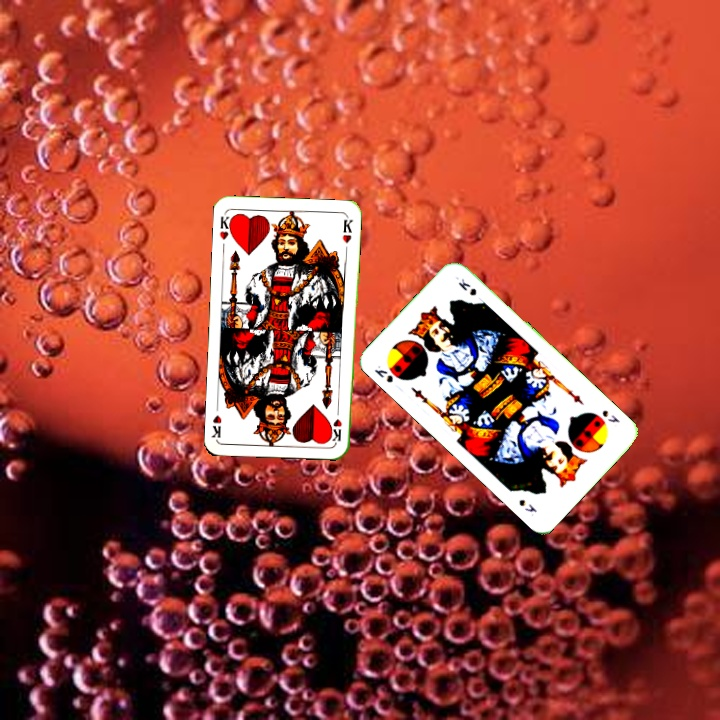HK: (328, 403, 345, 444), (215, 210, 236, 242)
SK: (370, 361, 396, 385), (598, 406, 623, 425)
